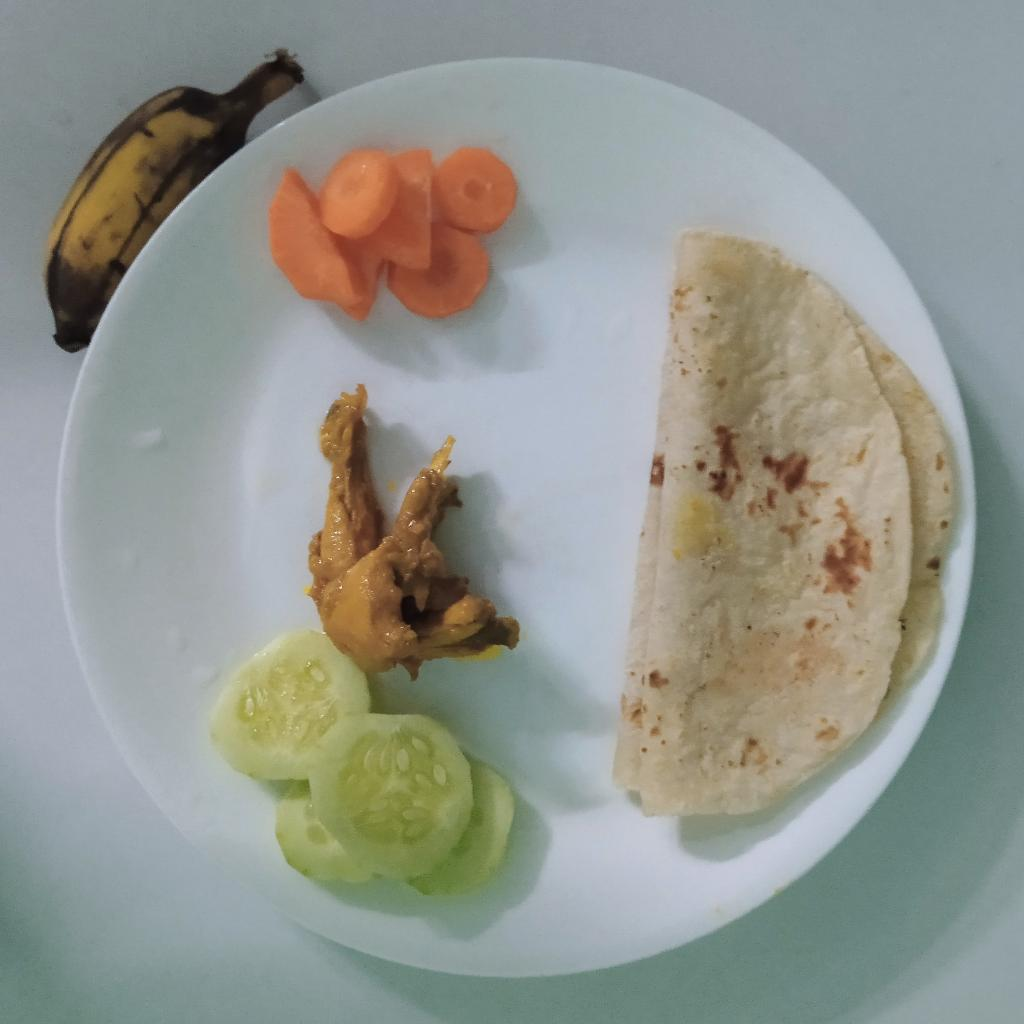banana: (45, 48, 305, 354)
carrot: (268, 145, 517, 322)
chicken: (304, 381, 520, 681)
cucumber: (210, 628, 516, 899)
ruti: (608, 226, 954, 818)
